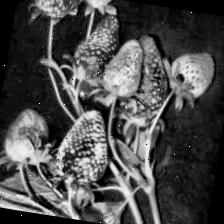Powdery Mildew Fruit: (50, 104, 116, 192), (116, 33, 176, 129), (70, 9, 126, 90), (99, 34, 146, 101), (30, 0, 81, 24), (77, 0, 117, 12)
